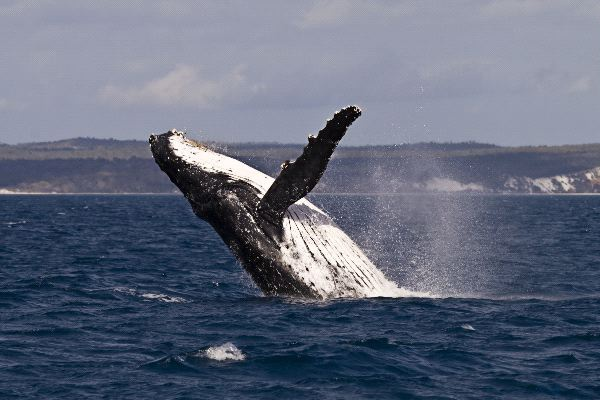humpback: (149, 129, 396, 297)
